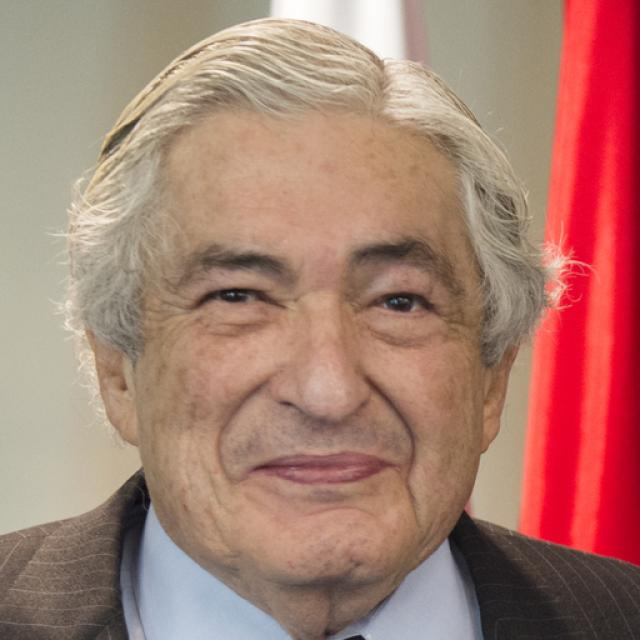Wrinkle: (208, 377, 269, 484), (370, 372, 420, 480)
